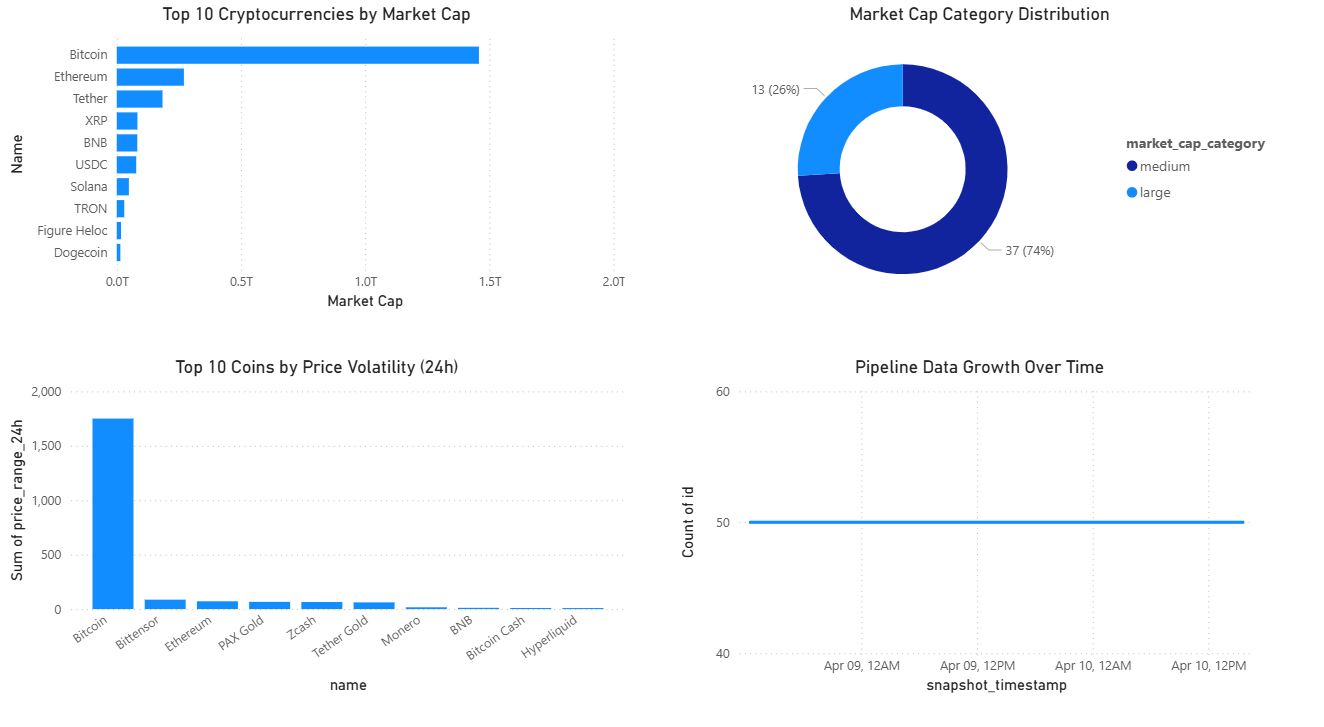

Layout of this report page (visuals, bound fields, positions):
{"tool":"powerbi","page":{"name":"Page 1","canvas":[1280,720],"ordinal":0},"visuals":[{"type":"barChart","title":"Top 10 Cryptocurrencies by Market Cap","fields":{"Y":["Sum(crypto_market_data.market_cap)"],"Category":["crypto_market_data.name"]},"box":[14.3,10,597.1,295.7],"z":0},{"type":"donutChart","title":"Market Cap Category Distribution","fields":{"Category":["crypto_market_data.market_cap_category"],"Y":["CountNonNull(crypto_market_data.id)"]},"box":[652.9,10,582.9,295.7],"z":1000},{"type":"clusteredColumnChart","title":"Top 10 Coins by Price Volatility (24h)","fields":{"Category":["crypto_market_data.name"],"Y":["Sum(crypto_market_data.price_range_24h)"]},"box":[14.3,345.7,597.1,325.7],"z":2000},{"type":"lineChart","title":"Pipeline Data Growth Over Time","fields":{"Y":["CountNonNull(crypto_market_data.id)"],"Category":["crypto_market_data.snapshot_timestamp"]},"box":[652.9,345.7,582.9,325.7],"z":3000}]}

Visuals, with their boxes in screenshot pixels (x1, y1, x2, y2), scaled from the page's 1280x720 canvas onto the 1324x727 screenshot:
"Top 10 Cryptocurrencies by Market Cap" barChart: rect(15, 10, 632, 309)
"Market Cap Category Distribution" donutChart: rect(675, 10, 1278, 309)
"Top 10 Coins by Price Volatility (24h)" clusteredColumnChart: rect(15, 349, 632, 678)
"Pipeline Data Growth Over Time" lineChart: rect(675, 349, 1278, 678)
